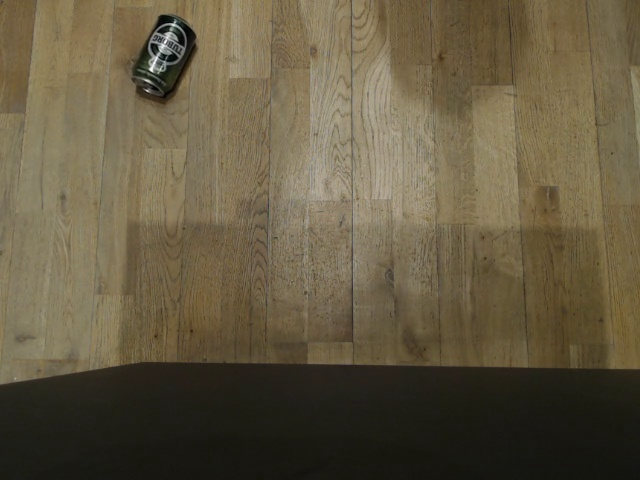beer: (130, 11, 198, 101)
